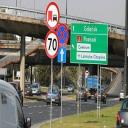speed_limit_70: (44, 29, 58, 58)
